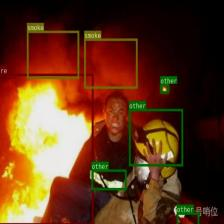fire: (0, 73, 93, 224)
smoke: (85, 38, 138, 88), (26, 30, 79, 79)
